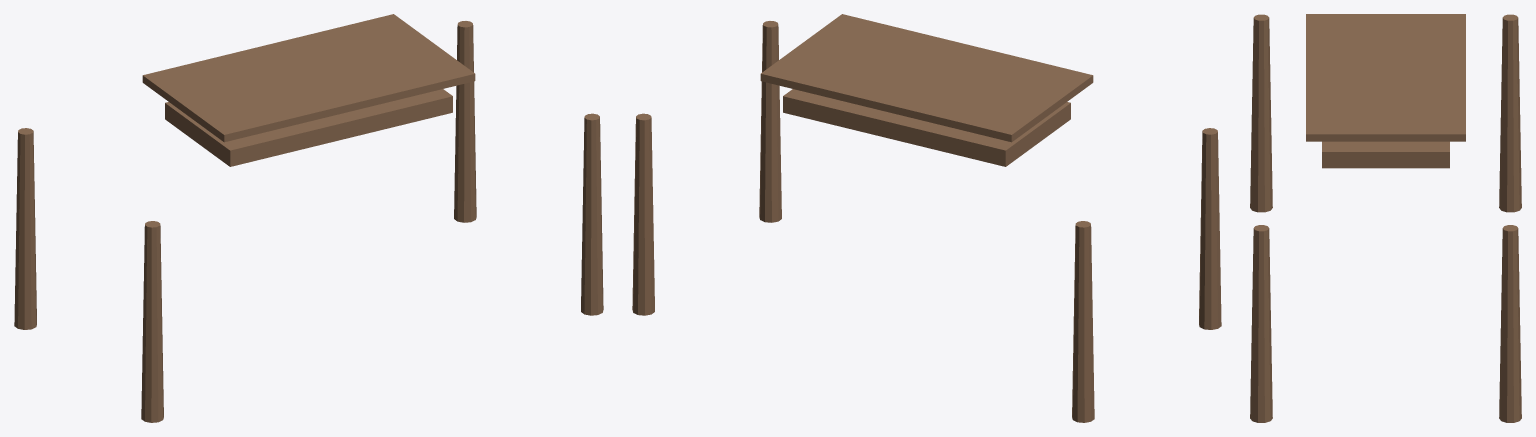
Rendered from dining_table.glb.
3 renders of one model, left to right at view 1: azimuth 30°, elevation 25°; view 2: azimuth 150°, elevation 25°; view 3: azimuth 270°, elevation 25°, orthographic.
Parts seen in each view (by area): view 1: top, apron, Cone, Cone.002, Cone.001, Cone.003; view 2: top, apron, Cone.001, Cone.003, Cone, Cone.002; view 3: top, Cone, Cone.001, Cone.002, Cone.003, apron.
Part boxes in pixels (x1,y1,x2,y2): top: (142, 14, 475, 142); apron: (165, 89, 452, 166); Cone: (141, 221, 163, 422); Cone.002: (581, 113, 603, 315); Cone.001: (14, 128, 36, 329); Cone.003: (454, 21, 476, 222); top: (760, 14, 1093, 142); apron: (783, 89, 1070, 166); Cone.001: (1072, 221, 1094, 422); Cone.003: (632, 113, 654, 315); Cone: (1199, 128, 1221, 329); Cone.002: (759, 21, 781, 222); top: (1306, 14, 1465, 141); Cone: (1250, 14, 1272, 212); Cone.001: (1499, 14, 1521, 212); Cone.002: (1250, 225, 1272, 422); Cone.003: (1499, 225, 1521, 422); apron: (1322, 141, 1449, 168).
Size of the model in its own units: 1.46 by 0.7413 by 0.764.
